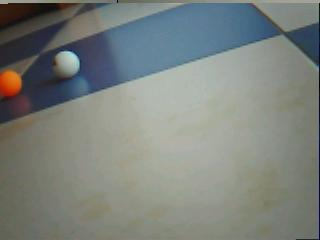oball: (0, 70, 22, 97)
